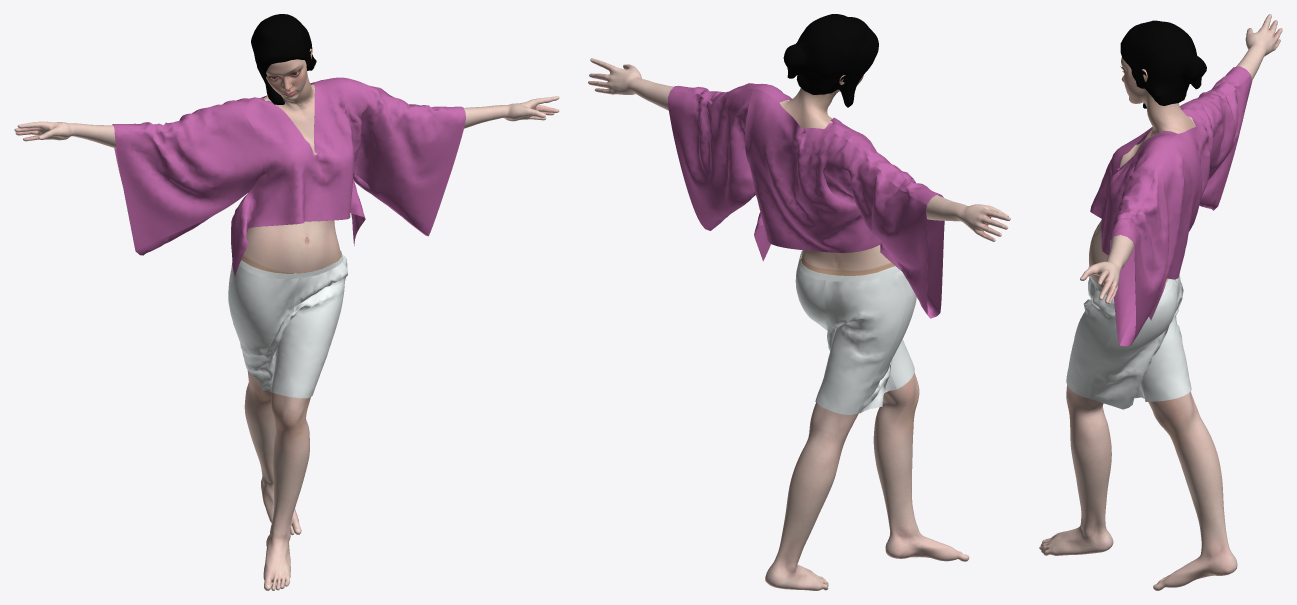
File: Custom_View_10__Dynamic_2.obj
3 renders of one model, left to right at view 1: azimuth 30°, elevation 25°; view 2: azimuth 150°, elevation 25°; view 3: azimuth 270°, elevation 25°, orthographic. The views are drawn at different scales.
Bounding box in the file's own units: 1601 × 1717 × 679.
